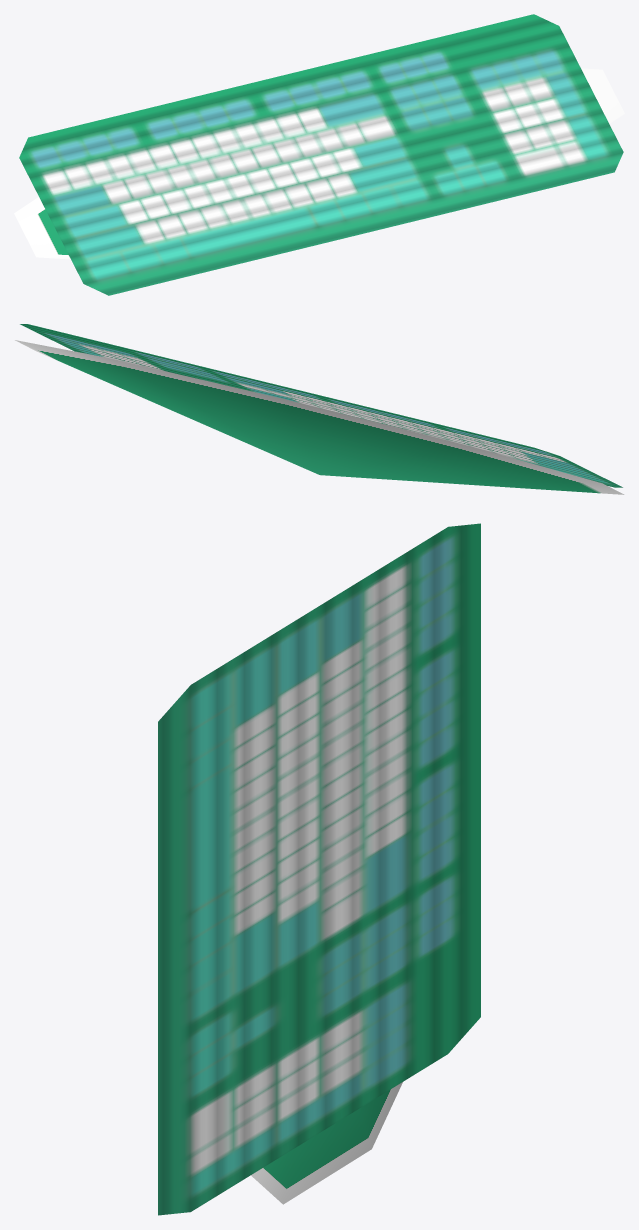
File: Terminal_010_monitor_002.fbx
The picture shows the model from 3 angles, top to bottom: view 1: azimuth 30°, elevation 25°; view 2: azimuth 150°, elevation 25°; view 3: azimuth 270°, elevation 25°; orthographic projection. The views are drawn at different scales.
Visible parts, largest first — view 1: Terminal_010_monitor_002; view 2: Terminal_010_monitor_002; view 3: Terminal_010_monitor_002.
Boxes of the visible parts, box(x1,y1,x2,y2) form: Terminal_010_monitor_002: box(14, 14, 624, 295); Terminal_010_monitor_002: box(15, 324, 624, 494); Terminal_010_monitor_002: box(158, 523, 480, 1215).
Bounding box in the file's own units: 70.55 × 16.76 × 13.45.
